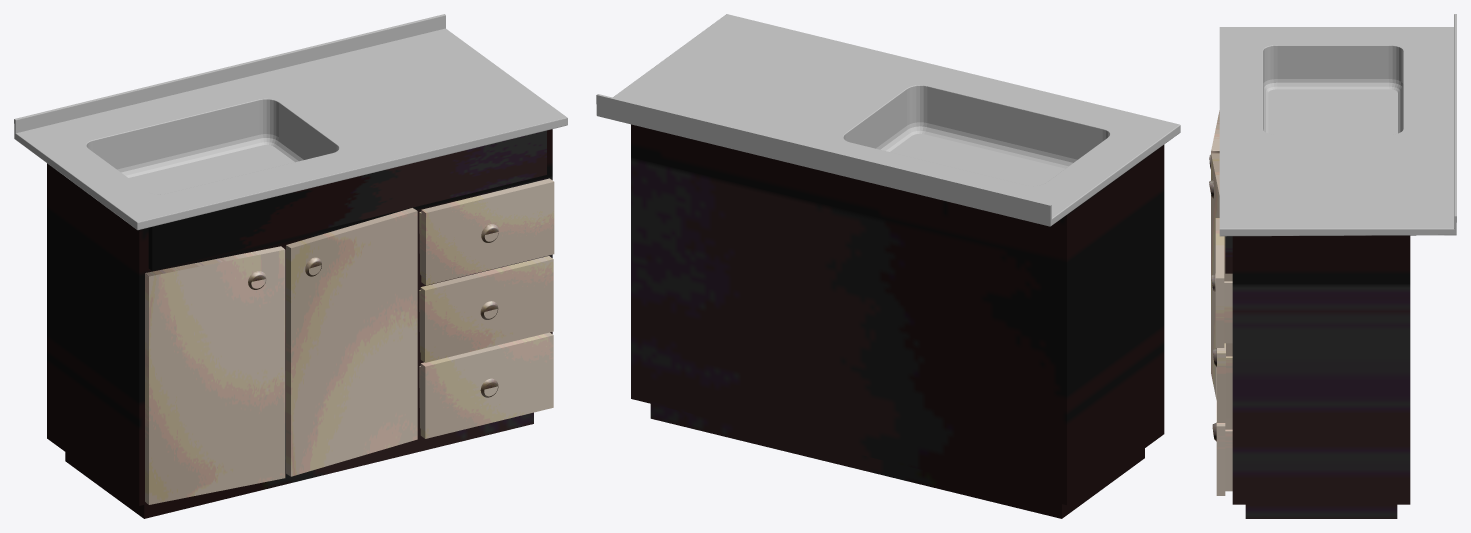
Rendered from Bacha_Cocina.fbx.
3 renders of one model, left to right at view 1: azimuth 30°, elevation 25°; view 2: azimuth 150°, elevation 25°; view 3: azimuth 270°, elevation 25°, orthographic. The views are drawn at different scales.
Parts seen in each view (by area): view 1: Bacha, bacha_puertaIzq, bacha_puertaDer, bacha_cajonArriba, bacha_cajonMedio, bacha_cajonAbajo; view 2: Bacha; view 3: Bacha, bacha_cajonArriba, bacha_puertaDer, bacha_cajonAbajo, bacha_cajonMedio.
Boxes of the visible parts, x1,y1,x2,y2 form: Bacha: [14, 14, 567, 518]; bacha_puertaIzq: [145, 246, 285, 504]; bacha_puertaDer: [286, 208, 417, 476]; bacha_cajonArriba: [419, 178, 554, 285]; bacha_cajonMedio: [419, 256, 553, 362]; bacha_cajonAbajo: [419, 332, 553, 438]; Bacha: [596, 14, 1180, 518]; Bacha: [1219, 14, 1456, 518]; bacha_cajonArriba: [1211, 218, 1232, 347]; bacha_puertaDer: [1209, 153, 1219, 399]; bacha_cajonAbajo: [1212, 367, 1232, 495]; bacha_cajonMedio: [1213, 343, 1232, 422].
Size of the model in its own units: 1.16 by 0.8381 by 0.6029.
